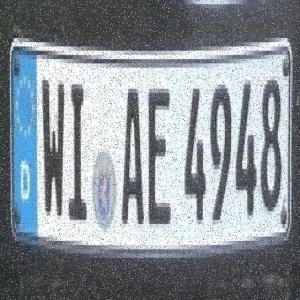Plate: (9, 34, 292, 270)
